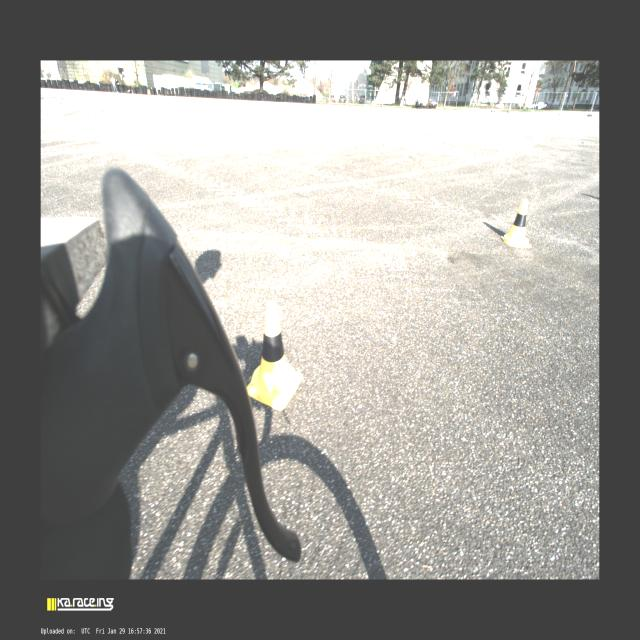yellow_cone: (246, 302, 302, 411), (501, 199, 532, 248)
